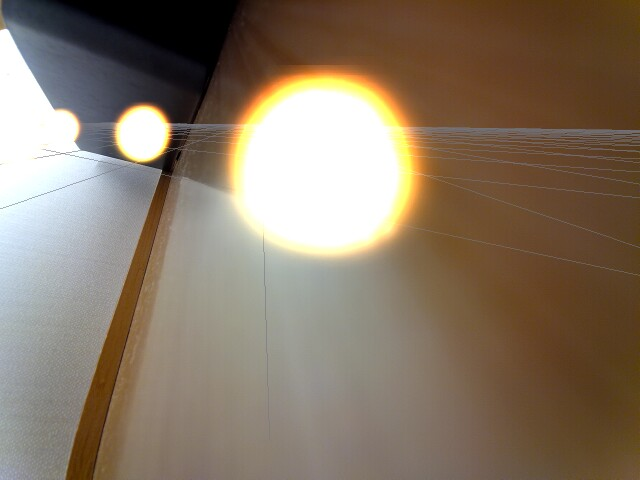firebig: (215, 56, 432, 265)
